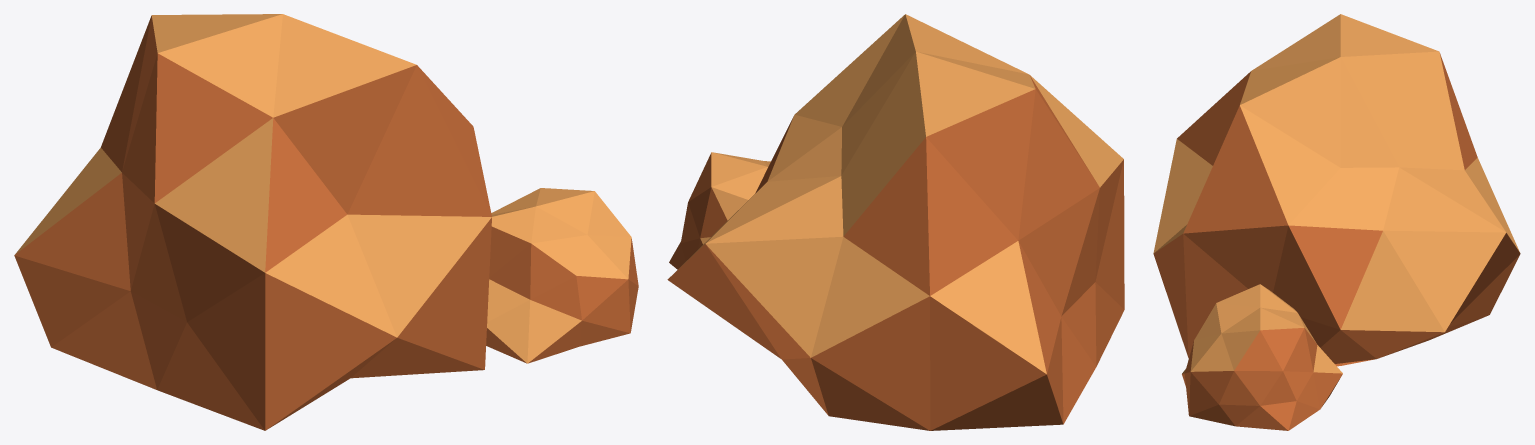
The model's file is CA_Roca_Mediana_B.obj.
The picture shows the model from 3 angles, left to right: view 1: azimuth 30°, elevation 25°; view 2: azimuth 150°, elevation 25°; view 3: azimuth 270°, elevation 25°; orthographic projection. The views are drawn at different scales.
Visible parts, largest first — view 1: CA_Roca_Mediana_B; view 2: CA_Roca_Mediana_B; view 3: CA_Roca_Mediana_B.
Boxes of the visible parts, left/top/right/bottom form: CA_Roca_Mediana_B: left=14, top=14, right=638, bottom=430; CA_Roca_Mediana_B: left=667, top=14, right=1124, bottom=430; CA_Roca_Mediana_B: left=1153, top=14, right=1520, bottom=430.
Bounding box in the file's own units: 2.9 × 1.77 × 2.28.
